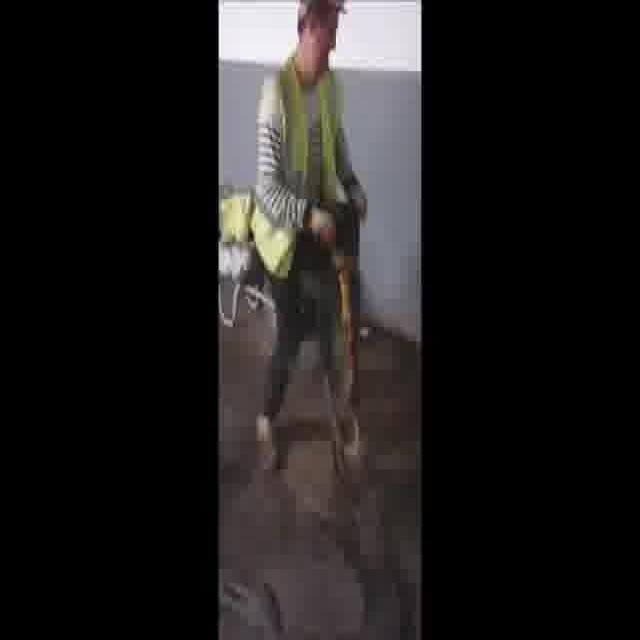safety_helmet: (252, 59, 340, 276)
